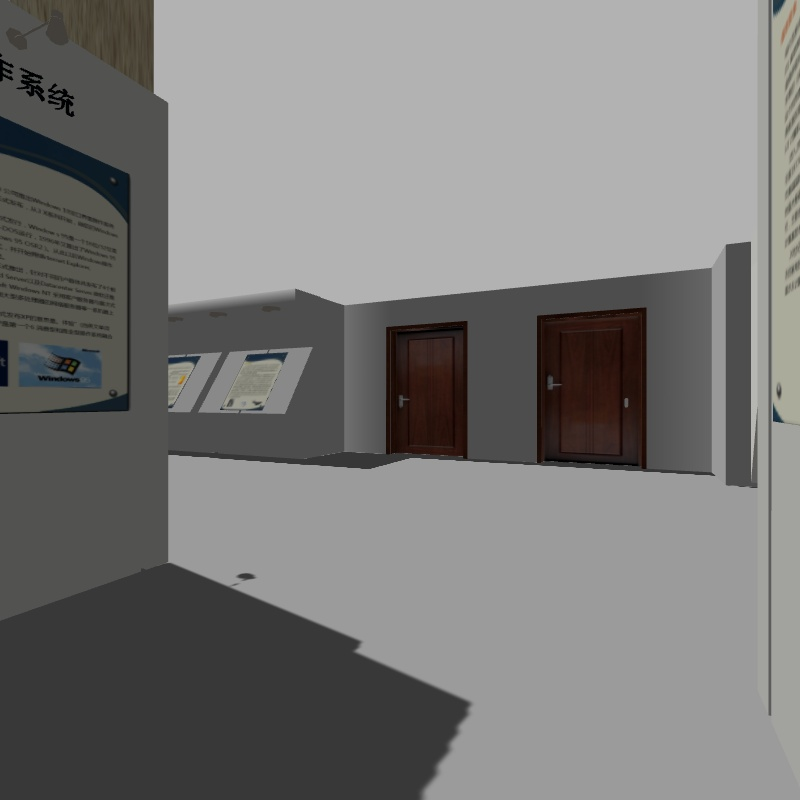handle: (543, 369, 569, 396), (392, 387, 410, 412)
